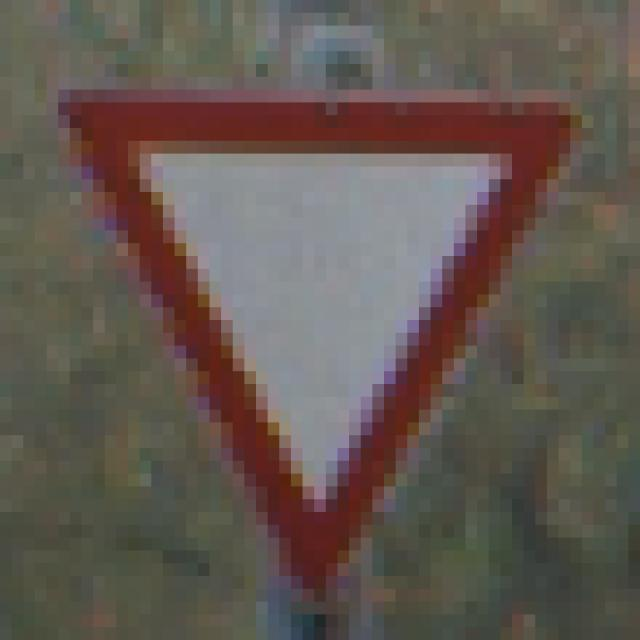Give Way: (59, 78, 583, 577)
